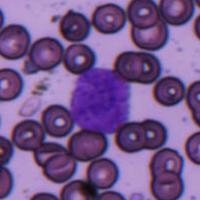B: (69, 67, 132, 134)
